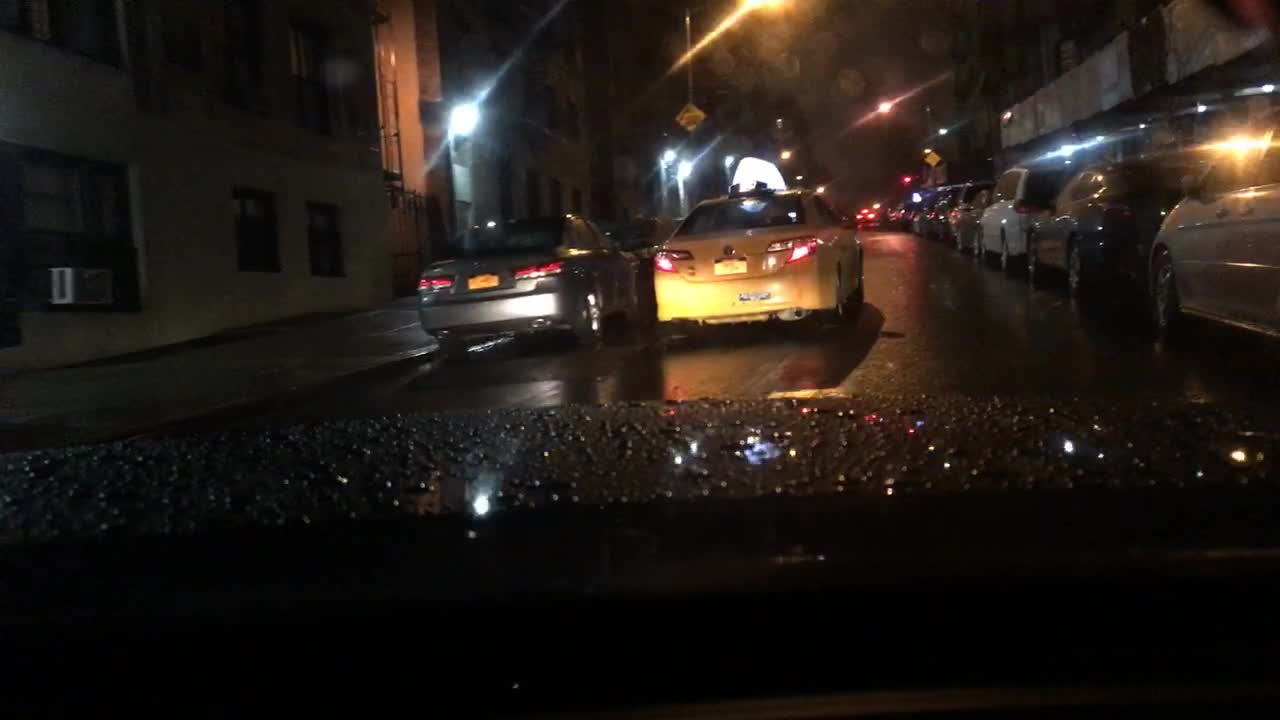car: (652, 156, 869, 331), (419, 207, 643, 363), (1145, 103, 1279, 344), (1024, 161, 1201, 310), (976, 164, 1072, 272), (928, 180, 989, 238), (608, 212, 676, 258), (949, 191, 992, 258), (904, 187, 945, 228), (888, 198, 913, 225), (850, 201, 879, 224)
traffic light: (897, 171, 916, 184)
traffic sign: (675, 104, 708, 135), (925, 150, 943, 171)
